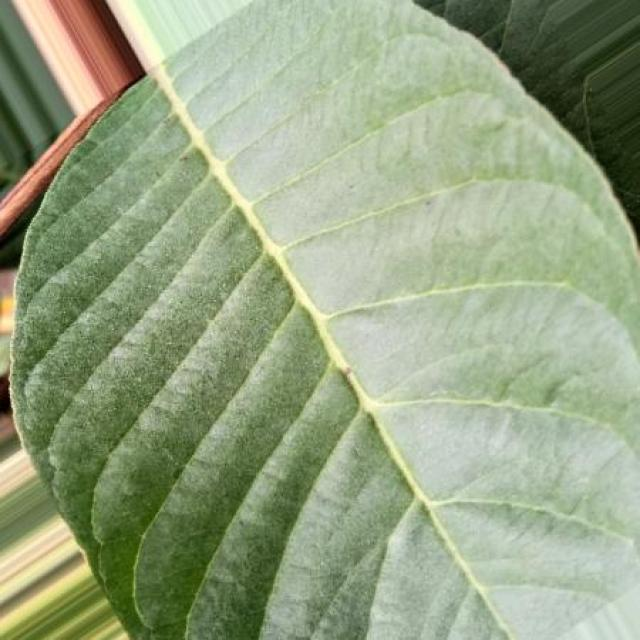Disease Free: (12, 0, 640, 640)
